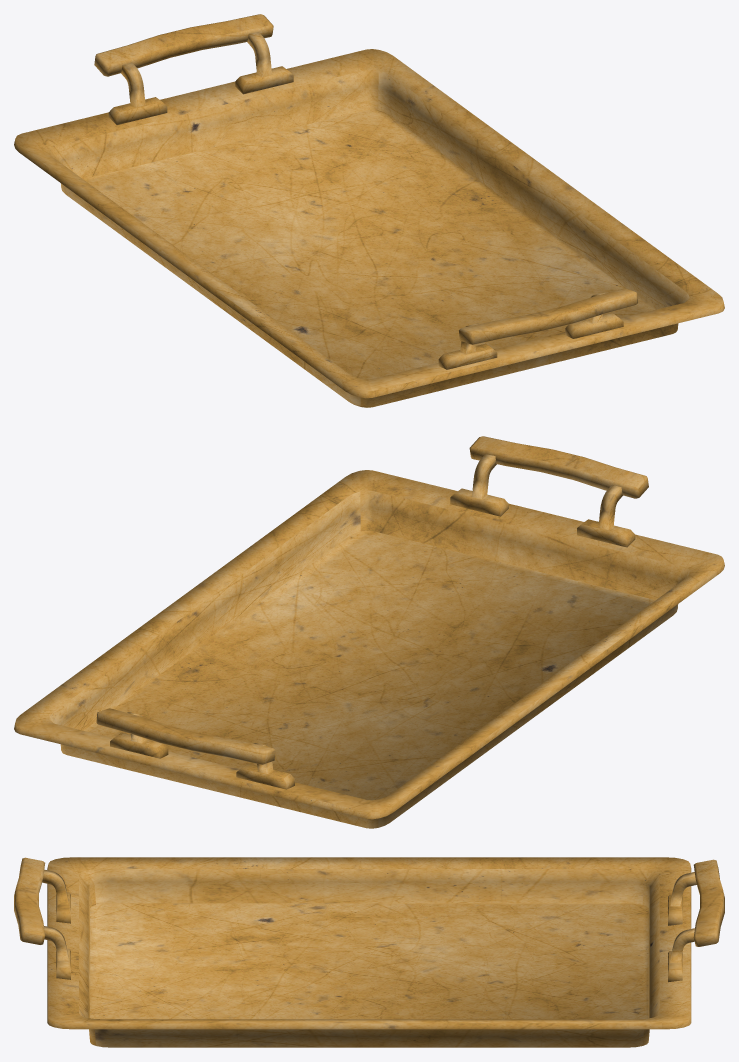
File: tray-7x7.glb
3 renders of one model, top to bottom at view 1: azimuth 30°, elevation 25°; view 2: azimuth 150°, elevation 25°; view 3: azimuth 270°, elevation 25°, orthographic. The views are drawn at different scales.
Visible parts, largest first — view 1: bandeja.001; view 2: bandeja.001; view 3: bandeja.001.
Boxes of the visible parts, x1,y1,x2,y2 form: bandeja.001: (14, 14, 724, 407); bandeja.001: (14, 436, 724, 828); bandeja.001: (14, 857, 724, 1047).
Size of the model in its own units: 8.74 by 1.94 by 15.76.
Materials: 1 (1 with a texture image).
